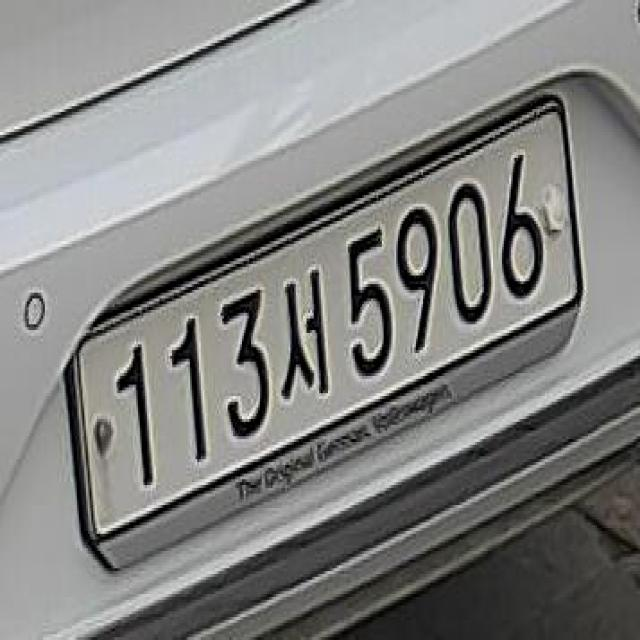illegal_plate: (72, 99, 586, 562)
